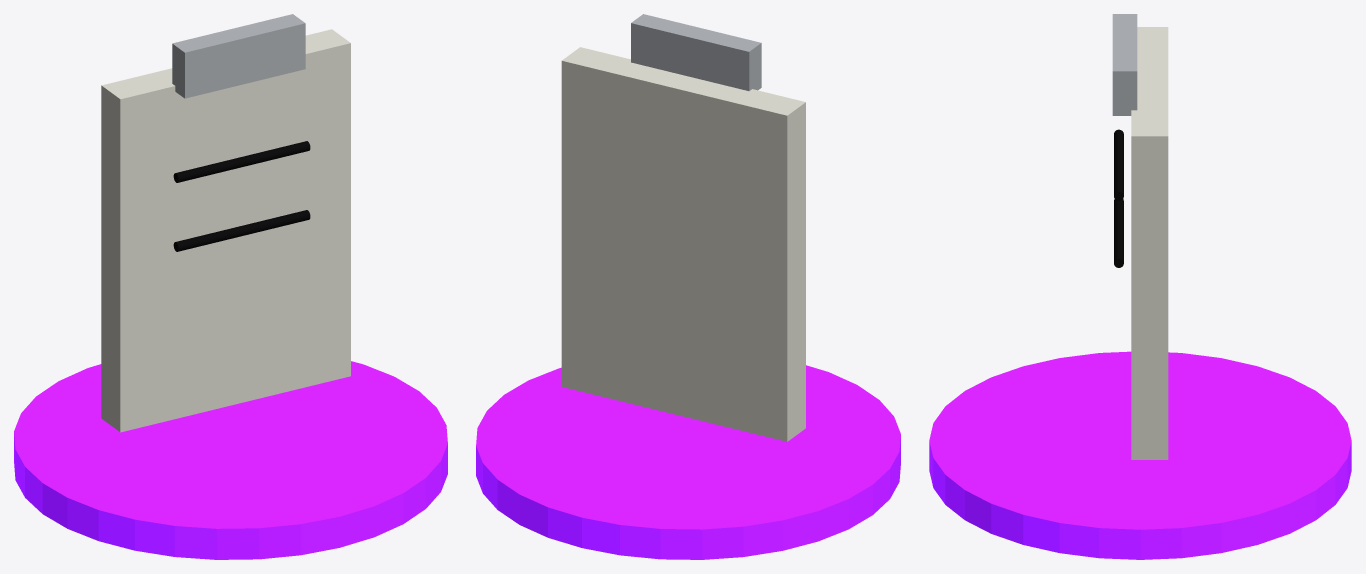
The model's file is modelling_clipboard.dae.
3 views of the same model, side by side, from view 1: azimuth 30°, elevation 25°; view 2: azimuth 150°, elevation 25°; view 3: azimuth 270°, elevation 25° (orthographic). The views are drawn at different scales.
Visible parts, largest first — view 1: 05_15_Popular_Modelling_Clipboard_part_01, 05_15_Popular_Modelling_Clipboard_ROOT_base, 05_15_Popular_Modelling_Clipboard_part_02, 05_15_Popular_Modelling_Clipboard_part_04, 05_15_Popular_Modelling_Clipboard_part_03; view 2: 05_15_Popular_Modelling_Clipboard_part_01, 05_15_Popular_Modelling_Clipboard_ROOT_base, 05_15_Popular_Modelling_Clipboard_part_02; view 3: 05_15_Popular_Modelling_Clipboard_ROOT_base, 05_15_Popular_Modelling_Clipboard_part_01, 05_15_Popular_Modelling_Clipboard_part_02, 05_15_Popular_Modelling_Clipboard_part_03, 05_15_Popular_Modelling_Clipboard_part_04.
Part boxes in pixels (x1,y1,x2,y2): 05_15_Popular_Modelling_Clipboard_part_01: (101,29,350,432); 05_15_Popular_Modelling_Clipboard_ROOT_base: (14,361,447,559); 05_15_Popular_Modelling_Clipboard_part_02: (172,14,305,98); 05_15_Popular_Modelling_Clipboard_part_04: (173,210,310,251); 05_15_Popular_Modelling_Clipboard_part_03: (173,141,310,182); 05_15_Popular_Modelling_Clipboard_part_01: (561,47,805,441); 05_15_Popular_Modelling_Clipboard_ROOT_base: (476,365,900,559); 05_15_Popular_Modelling_Clipboard_part_02: (631,14,761,90); 05_15_Popular_Modelling_Clipboard_ROOT_base: (929,351,1351,559); 05_15_Popular_Modelling_Clipboard_part_01: (1131,27,1168,459); 05_15_Popular_Modelling_Clipboard_part_02: (1112,14,1137,115); 05_15_Popular_Modelling_Clipboard_part_03: (1114,129,1123,200); 05_15_Popular_Modelling_Clipboard_part_04: (1114,199,1123,267).
Size of the model in its own units: 0.76 by 0.85 by 0.76.
